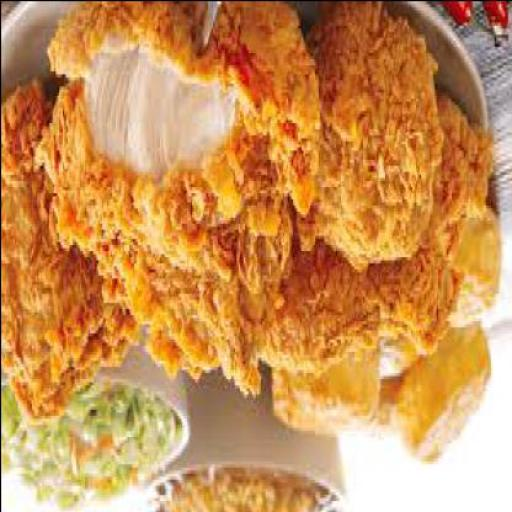biodegradable: (29, 3, 319, 265), (1, 79, 133, 427), (290, 3, 432, 271), (97, 208, 292, 378), (386, 94, 489, 342), (253, 247, 430, 375), (1, 391, 176, 511), (392, 336, 490, 464), (266, 344, 378, 430), (151, 475, 330, 511), (447, 210, 498, 332), (368, 384, 400, 446), (478, 3, 507, 49), (439, 3, 466, 30)
metal: (198, 3, 216, 52)
